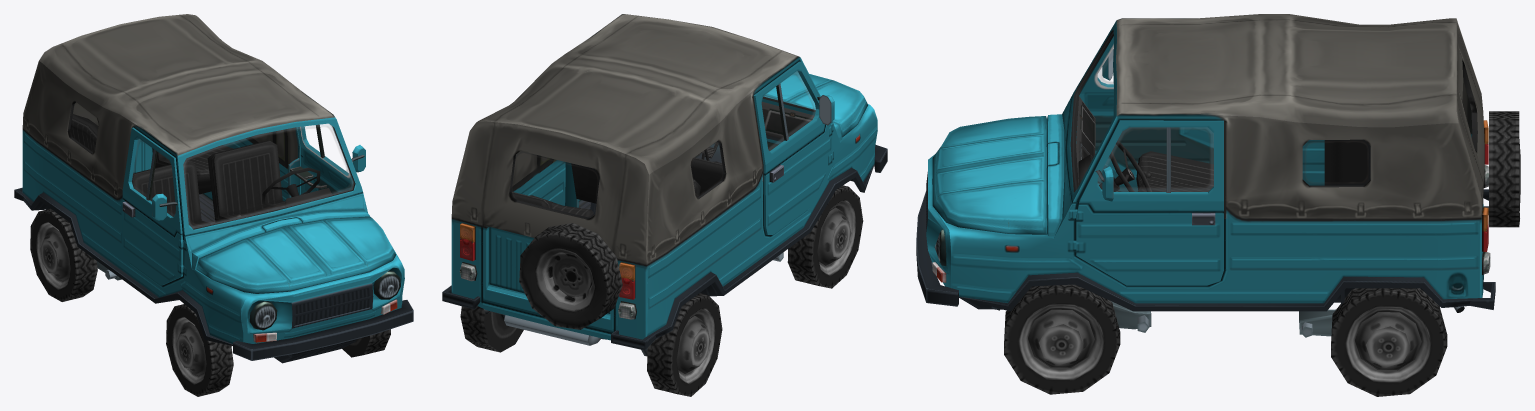
File: luaz.glb
3 renders of one model, left to right at view 1: azimuth 30°, elevation 25°; view 2: azimuth 150°, elevation 25°; view 3: azimuth 270°, elevation 25°, orthographic. The views are drawn at different scales.
Visible parts, largest first — view 1: body, door_R, wheel_RR, wheel_FR, door_L, wheel_FL; view 2: body, door_R, wheel_RR, wheel_FR, wheel_RL; view 3: body, door_L, wheel_RL, wheel_FL, door_R.
Boxes of the visible parts, x1=… form: body: x1=14, y1=14, x2=413, y2=363; door_R: x1=122, y1=127, x2=183, y2=285; wheel_RR: x1=30, y1=208, x2=97, y2=301; wheel_FR: x1=166, y1=304, x2=233, y2=396; door_L: x1=290, y1=119, x2=365, y2=194; wheel_FL: x1=342, y1=329, x2=390, y2=357; body: x1=442, y1=14, x2=887, y2=356; door_R: x1=753, y1=61, x2=834, y2=234; wheel_RR: x1=647, y1=293, x2=722, y2=396; wheel_FR: x1=787, y1=185, x2=863, y2=288; wheel_RL: x1=460, y1=306, x2=523, y2=352; body: x1=916, y1=14, x2=1520, y2=337; door_L: x1=1076, y1=120, x2=1223, y2=285; wheel_RL: x1=1331, y1=288, x2=1447, y2=396; wheel_FL: x1=1004, y1=284, x2=1120, y2=394; door_R: x1=1079, y1=36, x2=1213, y2=176.
Size of the model in its own units: 1.72 by 1.81 by 3.42.
Materials: 2 (2 with a texture image).
